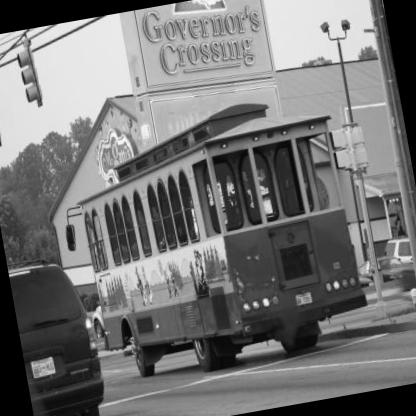bus: (46, 108, 388, 397)
